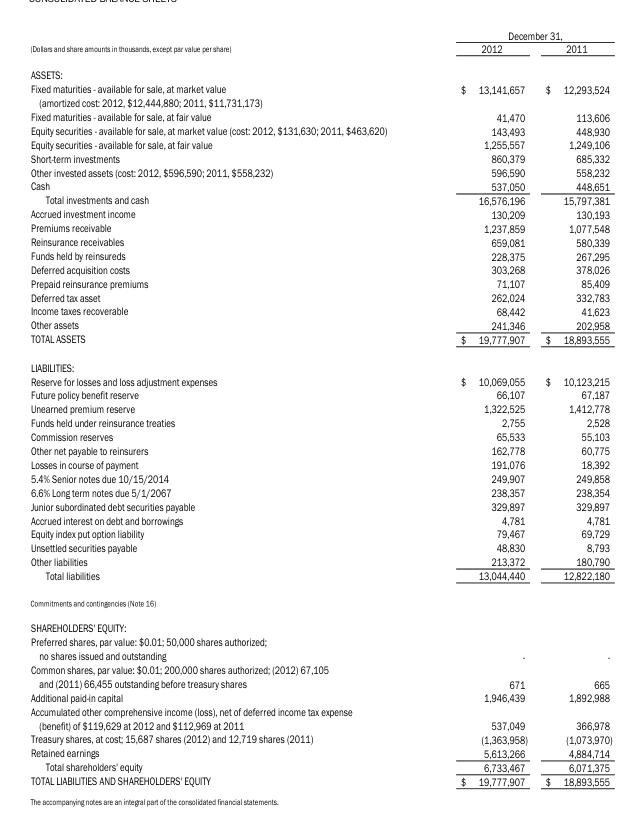table: (29, 28, 611, 787)
table column: (29, 28, 423, 787), (423, 28, 535, 787), (535, 28, 611, 787)
table column header: (29, 28, 611, 61)
table projected row header: (29, 589, 611, 614), (29, 352, 611, 373), (29, 61, 611, 81), (29, 614, 611, 634), (29, 95, 611, 109), (29, 634, 611, 648), (29, 662, 611, 676), (29, 704, 611, 717)
table row: (29, 589, 611, 614), (29, 331, 611, 352), (29, 352, 611, 373), (29, 568, 611, 589), (29, 41, 611, 61), (29, 61, 611, 81), (29, 614, 611, 634), (29, 81, 611, 95), (29, 95, 611, 109), (29, 109, 611, 123), (29, 123, 611, 137), (29, 137, 611, 151), (29, 151, 611, 165), (29, 178, 611, 192), (29, 192, 611, 206), (29, 206, 611, 220), (29, 220, 611, 234), (29, 234, 611, 248), (29, 248, 611, 262), (29, 262, 611, 276), (29, 276, 611, 290), (29, 303, 611, 317), (29, 317, 611, 331), (29, 373, 611, 387), (29, 387, 611, 401), (29, 401, 611, 415), (29, 415, 611, 429), (29, 429, 611, 443), (29, 443, 611, 457), (29, 470, 611, 484), (29, 484, 611, 498), (29, 498, 611, 512), (29, 512, 611, 526), (29, 526, 611, 540), (29, 540, 611, 554), (29, 554, 611, 568), (29, 634, 611, 648), (29, 648, 611, 662), (29, 662, 611, 676), (29, 676, 611, 690), (29, 690, 611, 704), (29, 717, 611, 731), (29, 731, 611, 745), (29, 745, 611, 759), (29, 759, 611, 773), (29, 773, 611, 787), (29, 28, 611, 41), (29, 165, 611, 178), (29, 290, 611, 303), (29, 457, 611, 470), (29, 704, 611, 717)
table spanning cell: (29, 28, 423, 61), (423, 28, 611, 41)
